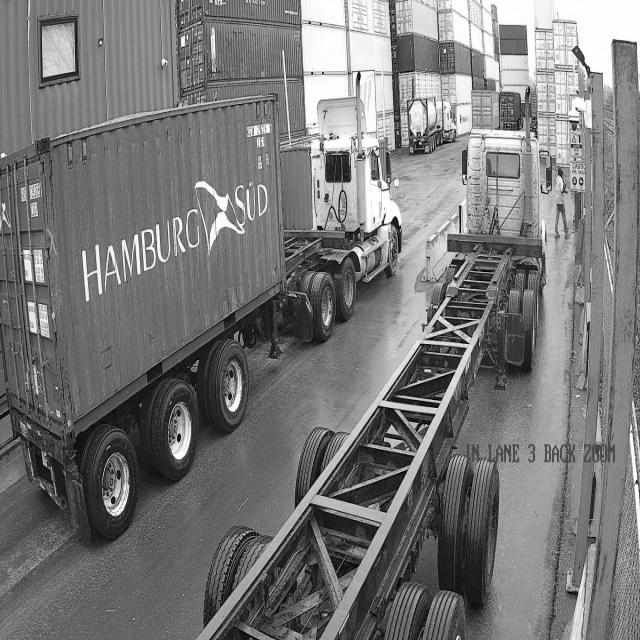container_company_logo: (82, 181, 268, 302)
container_number: (14, 170, 49, 235)
driver: (554, 168, 569, 237)
truck_with_container: (0, 73, 402, 541), (408, 98, 456, 153)
truck_without_container: (199, 130, 553, 639)
